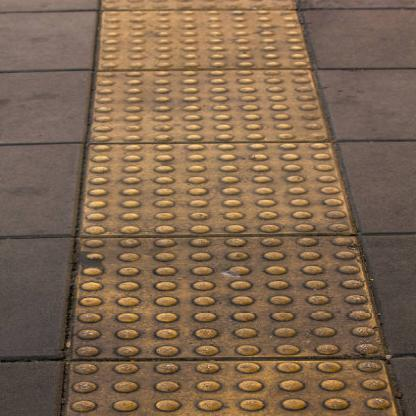podotacti: (58, 0, 406, 415)
